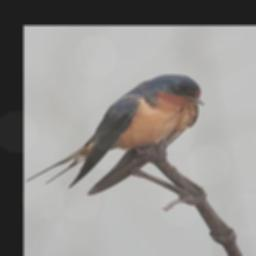Swallow: (28, 72, 206, 194)
